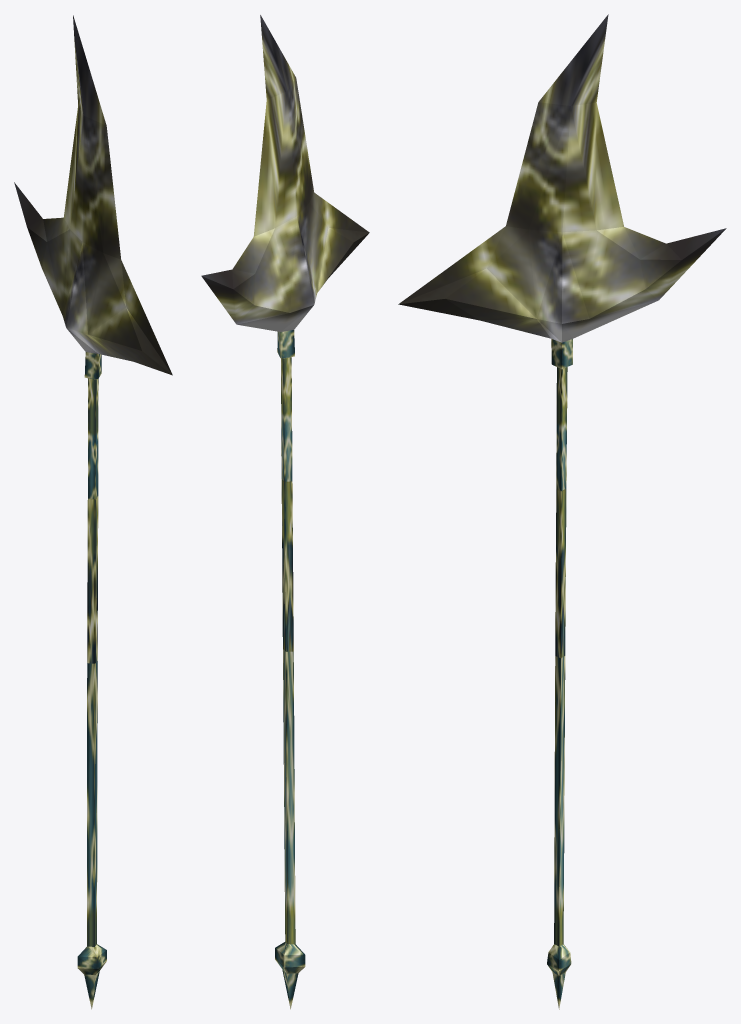
The model's file is longarm00_5.obj.
The picture shows the model from 3 angles, left to right: view 1: azimuth 30°, elevation 25°; view 2: azimuth 150°, elevation 25°; view 3: azimuth 270°, elevation 25°; orthographic projection. The views are drawn at different scales.
Visible parts, largest first — view 1: longarm00_5; view 2: longarm00_5; view 3: longarm00_5.
Boxes of the visible parts, bbox=[...] form: longarm00_5: bbox=[14, 15, 172, 1009]; longarm00_5: bbox=[201, 15, 369, 1009]; longarm00_5: bbox=[398, 14, 726, 1009].
Bounding box in the file's own units: 0.1462 × 2.46 × 0.7325.
